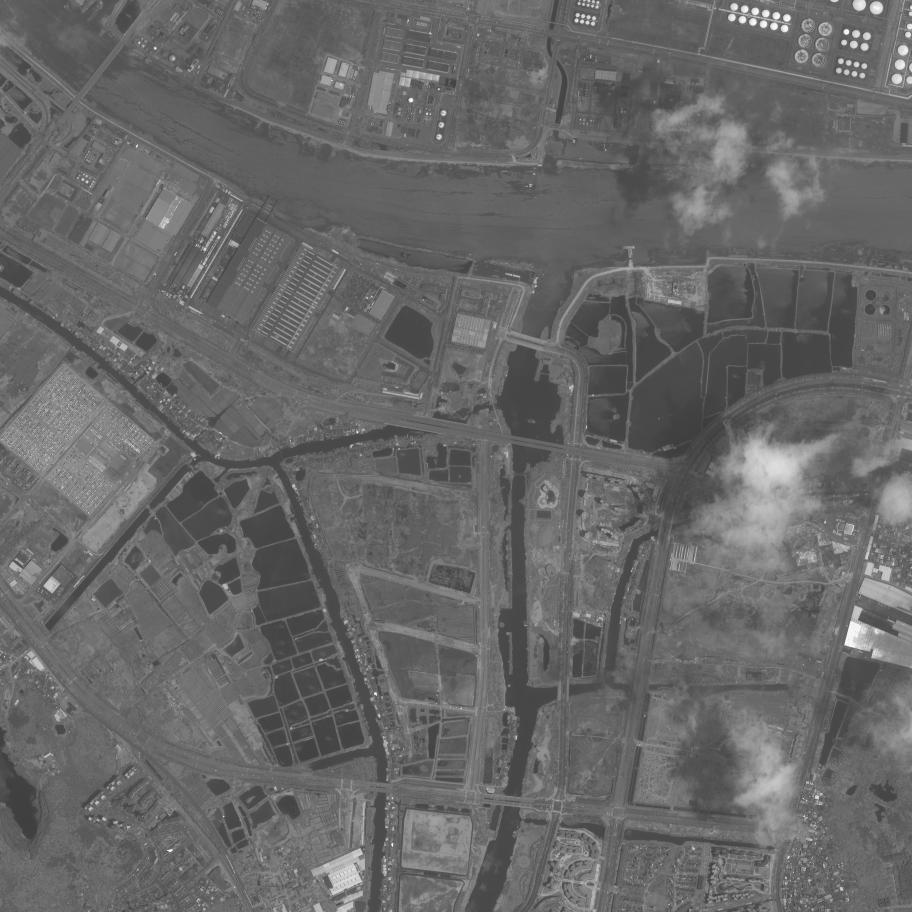storage-tank: (818, 21, 833, 37), (797, 34, 813, 49), (793, 49, 809, 64), (801, 18, 816, 33), (814, 37, 829, 52), (811, 52, 826, 67), (869, 1, 884, 15), (879, 289, 892, 303), (864, 289, 878, 302), (864, 303, 877, 316), (878, 304, 891, 317), (891, 73, 903, 85), (897, 44, 909, 56), (894, 59, 906, 70), (759, 19, 768, 29), (851, 30, 861, 39), (862, 31, 871, 41), (860, 42, 869, 52), (727, 13, 736, 22), (740, 5, 749, 14), (738, 15, 747, 24), (751, 7, 760, 16), (748, 18, 757, 27), (761, 9, 770, 18), (772, 11, 781, 20), (770, 22, 779, 31), (780, 24, 789, 33), (849, 40, 858, 49), (730, 3, 739, 11), (782, 14, 791, 22), (435, 133, 443, 141), (440, 109, 447, 117), (161, 50, 168, 58), (851, 70, 858, 78), (438, 122, 445, 129), (843, 28, 850, 35), (841, 39, 848, 46), (837, 58, 844, 65), (845, 59, 852, 66), (853, 61, 860, 68), (861, 63, 868, 70), (835, 67, 842, 74), (843, 69, 850, 76), (859, 72, 866, 79), (905, 31, 912, 38), (169, 55, 176, 62), (408, 97, 414, 103), (152, 46, 158, 51), (140, 43, 145, 49), (147, 42, 152, 47), (575, 13, 580, 18), (574, 18, 579, 23), (586, 15, 591, 20), (144, 39, 148, 44), (145, 47, 149, 52), (580, 19, 584, 24), (585, 21, 590, 25), (591, 21, 595, 26), (581, 14, 585, 19), (592, 16, 596, 21), (88, 176, 92, 180), (140, 37, 144, 41), (137, 41, 141, 45), (149, 50, 153, 54), (81, 177, 85, 181), (85, 180, 89, 184), (586, 3, 590, 7), (591, 4, 595, 8), (595, 5, 599, 9), (425, 112, 428, 116), (85, 174, 88, 178), (82, 173, 86, 176), (577, 2, 581, 5), (596, 1, 600, 4), (84, 155, 87, 158), (205, 36, 208, 39), (78, 174, 81, 177), (89, 185, 92, 188), (76, 177, 79, 180), (583, 119, 586, 122), (579, 118, 582, 121), (582, 122, 585, 125), (589, 119, 592, 122), (582, 3, 585, 6), (86, 153, 88, 156), (87, 151, 90, 153), (438, 88, 440, 91), (429, 113, 432, 115), (212, 28, 214, 31), (220, 10, 222, 13), (92, 180, 94, 183), (579, 122, 581, 125), (586, 122, 588, 125), (220, 13, 222, 15), (213, 27, 215, 29), (215, 25, 217, 27), (219, 12, 221, 14), (259, 17, 261, 19), (260, 15, 262, 17), (255, 15, 257, 17), (258, 14, 260, 16), (254, 12, 256, 14), (91, 183, 93, 185), (222, 12, 223, 13)
